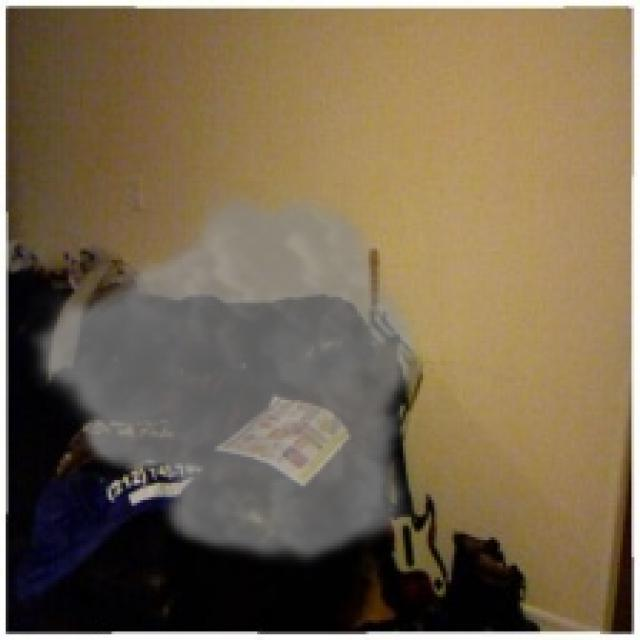smoke: (23, 183, 423, 568)
